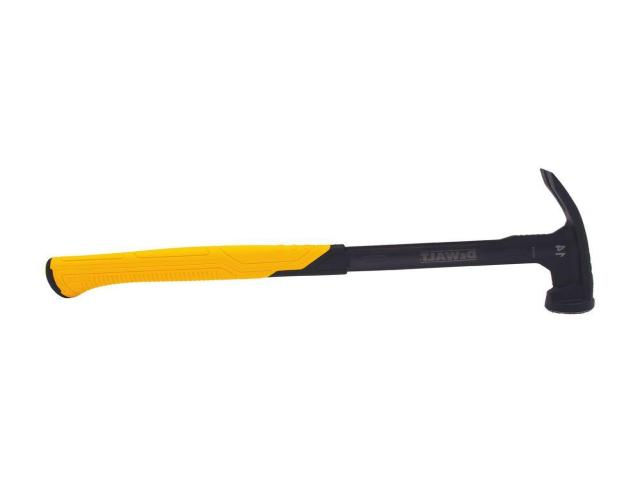hammer: (48, 167, 596, 312)
